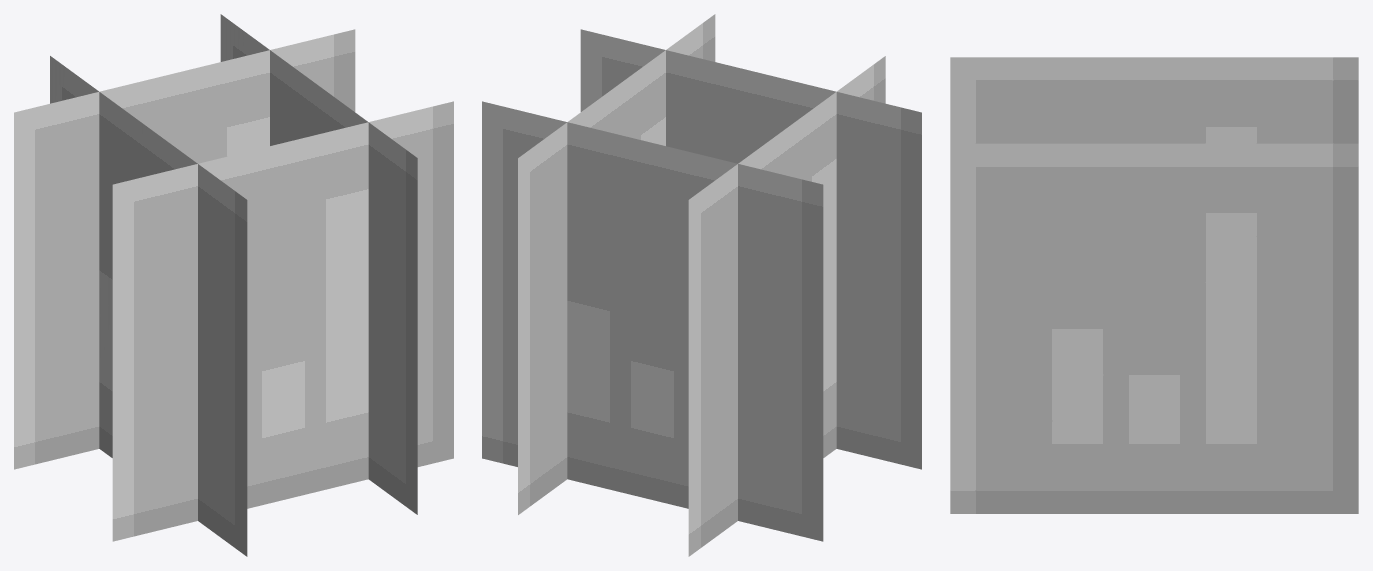
The model's file is block_template_seagrass.gltf.
The picture shows the model from 3 angles, left to right: view 1: azimuth 30°, elevation 25°; view 2: azimuth 150°, elevation 25°; view 3: azimuth 270°, elevation 25°; orthographic projection. The views are drawn at different scales.
Visible parts, largest first — view 1: cube (×4); view 2: cube (×4); view 3: cube (×2).
Part boxes in pixels (x1,y1,x2,y2): cube (×4): (14,14,453,556); cube (×4): (482,14,921,556); cube (×2): (950,57,1358,513).
Size of the model in its own units: 1 by 1 by 1.
1 material, 1 textured.
